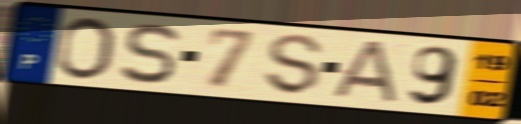7: (205, 27, 256, 92)
9: (406, 44, 460, 108)
A: (325, 39, 402, 105)
O: (52, 15, 117, 82)
S: (118, 21, 183, 87), (264, 32, 326, 98)
